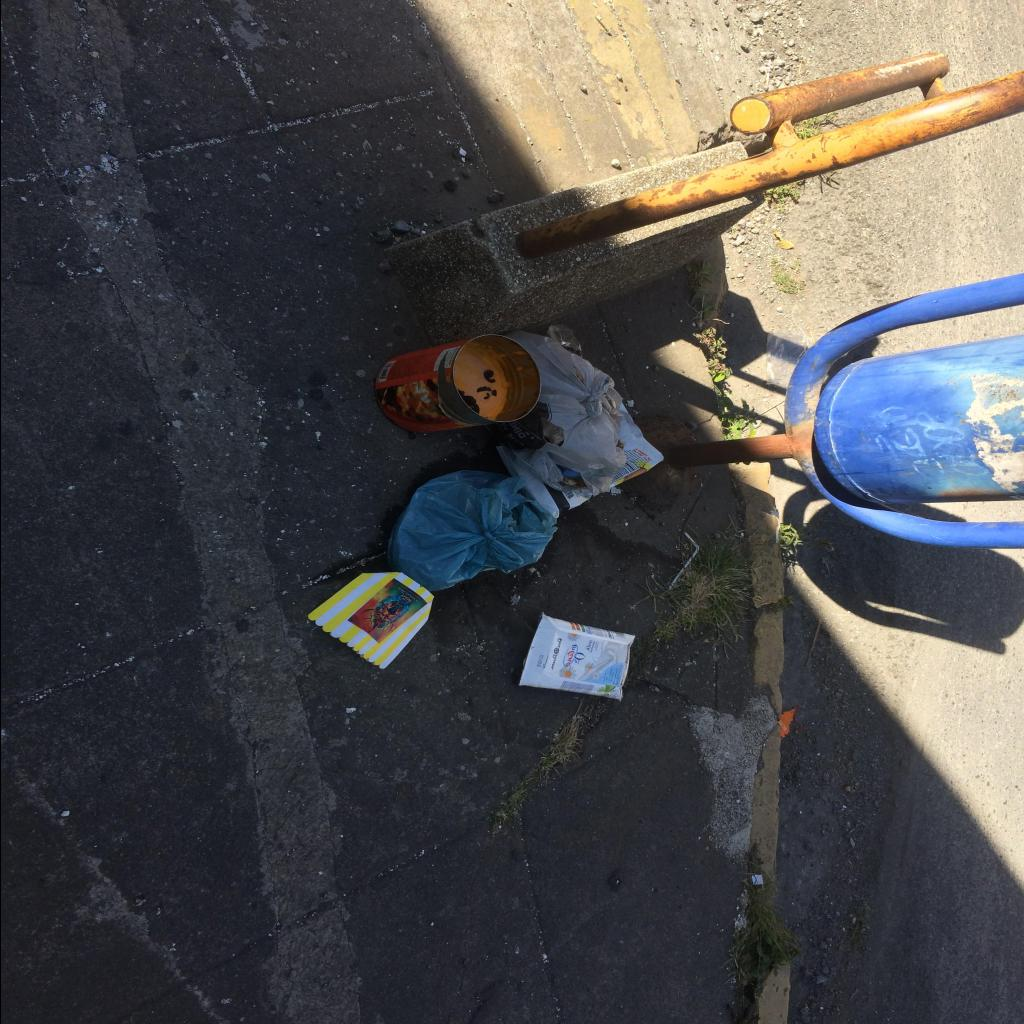Drink carton: (518, 612, 634, 702)
Food Can: (374, 334, 540, 434)
Meal carton: (307, 572, 433, 668)
Other plastic bottle: (776, 710, 795, 738)
Plastic film: (494, 402, 662, 518)
Plastic straw: (668, 532, 698, 590)
Single-use carrier bag: (490, 330, 626, 496), (388, 470, 558, 592)
